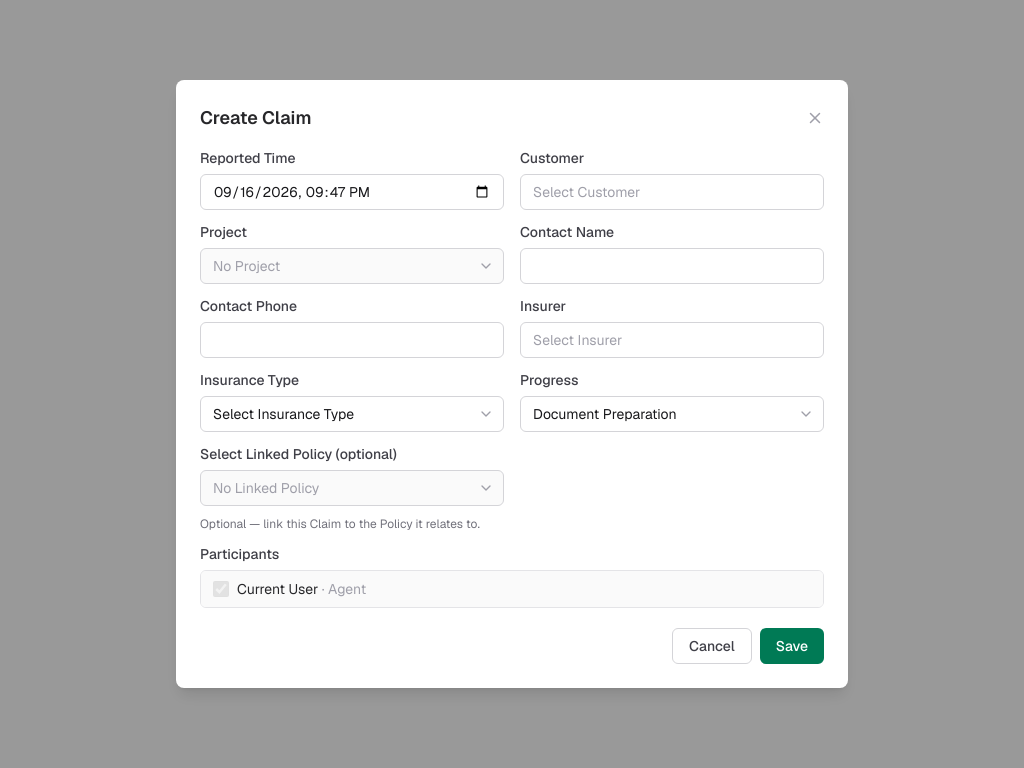
Test: NonMotorClaimFormModal — WIBA Injured Name › Case: Injured Name appears once Insurance Type is set to WIBA
Select "WIBA" in the dropdown below "Insurance Type" at (352, 414), box [200,396,504,432]
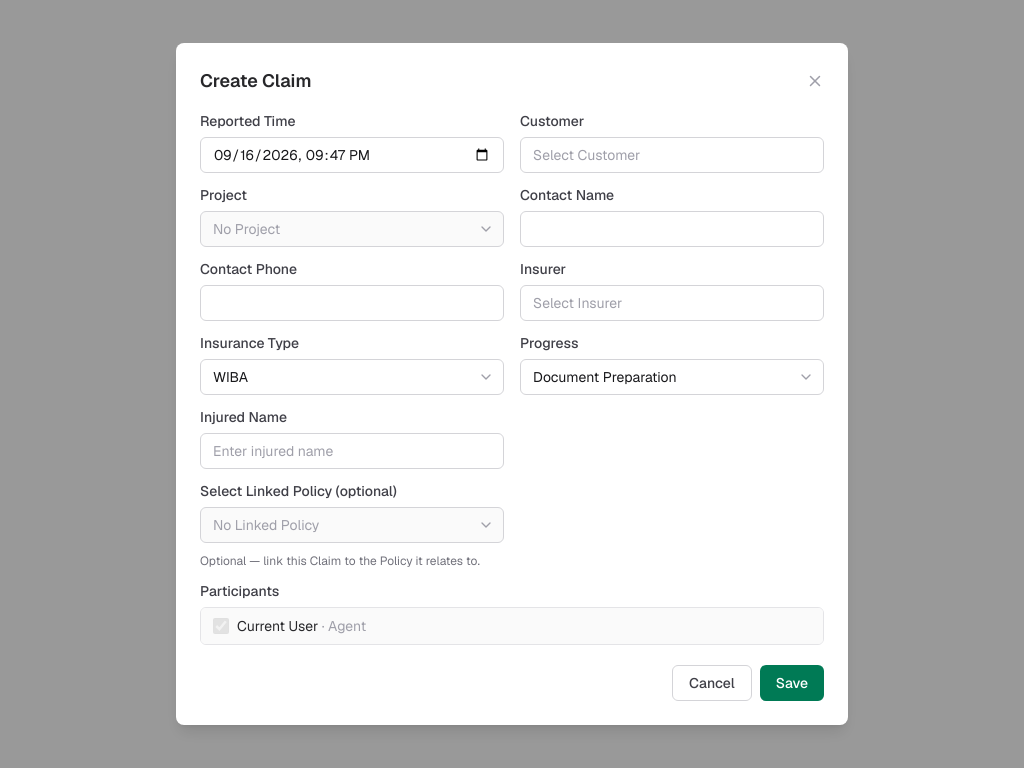
expect the field with placeholder "Enter injured name" is shown: met, box [200,433,504,469]
